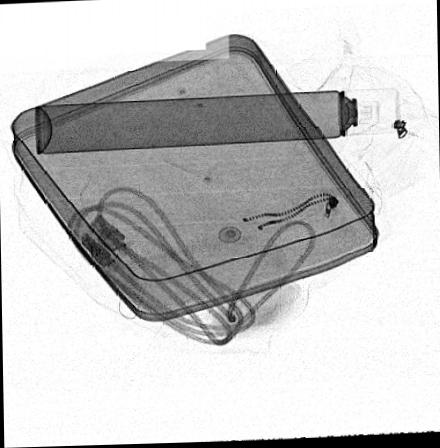Sprayer: (35, 90, 400, 154)
